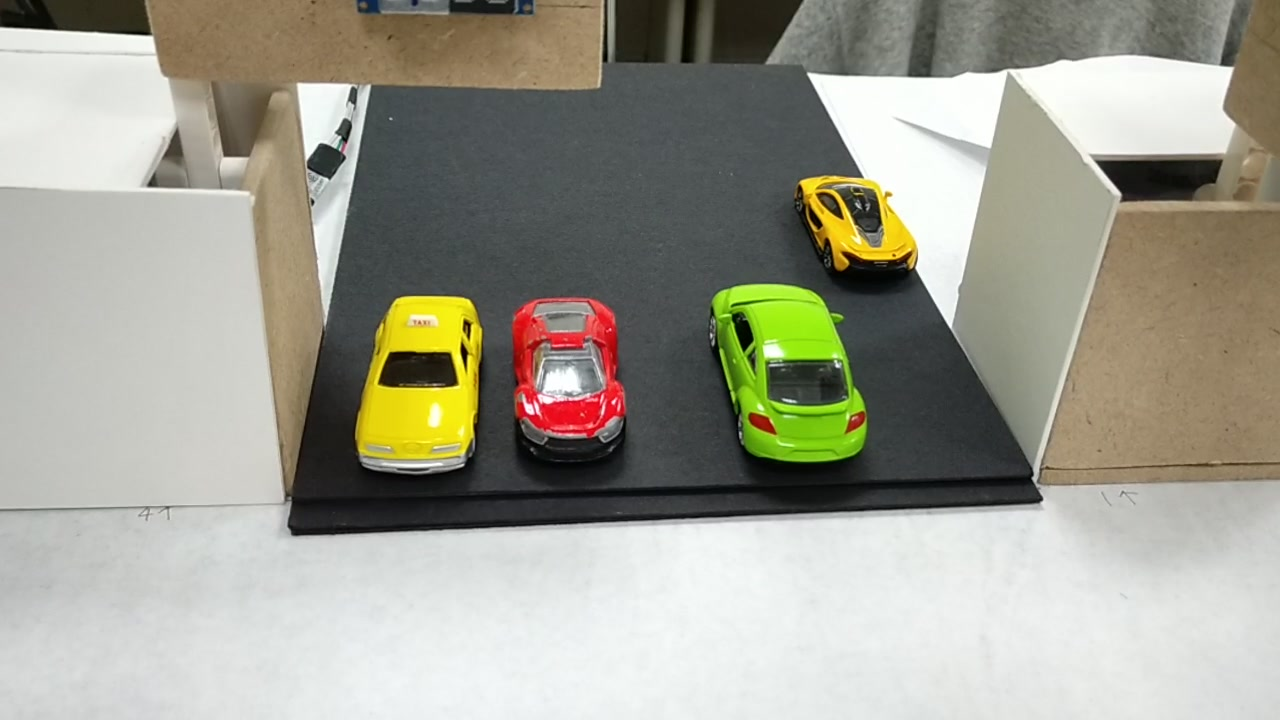car: (714, 281, 869, 461), (357, 286, 470, 472), (521, 302, 624, 461), (797, 168, 918, 277)
